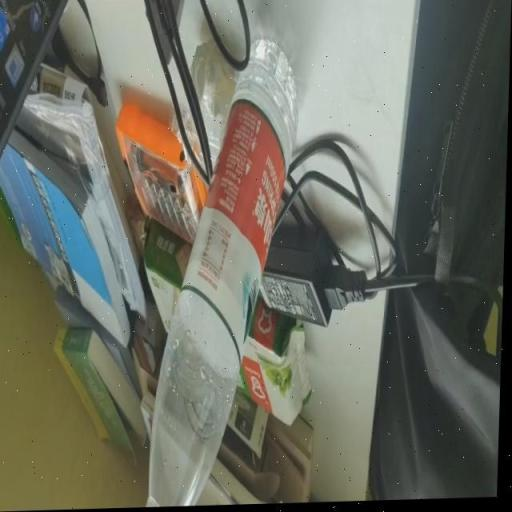plastic: (156, 40, 299, 507)
